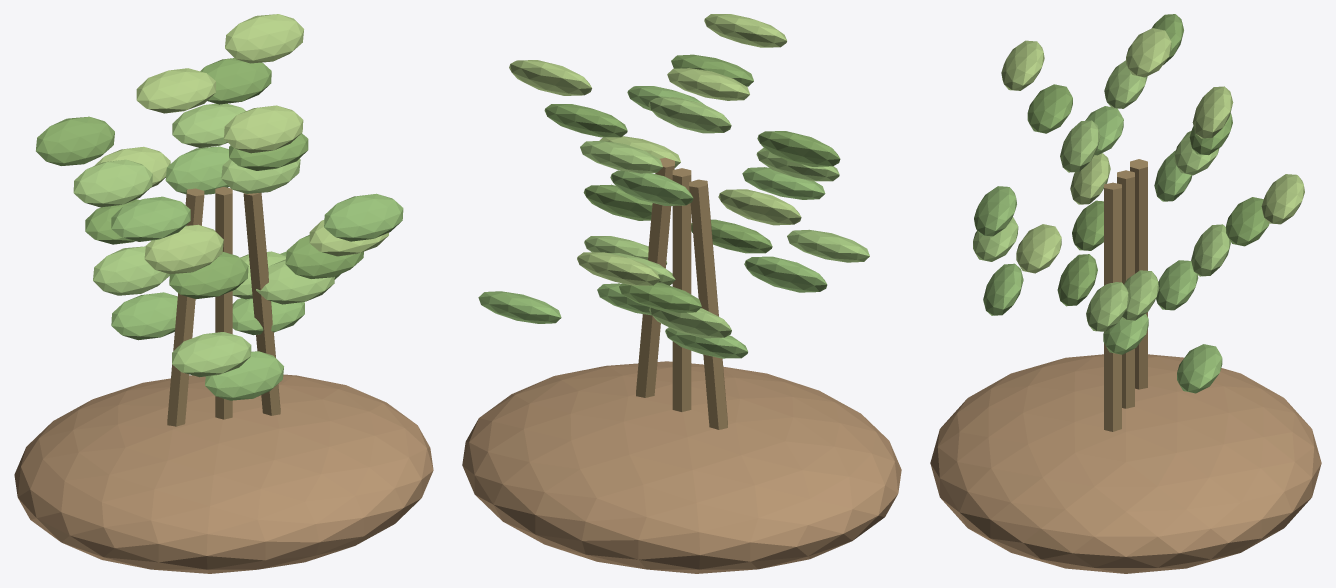
Rendered from yerba_listo.glb.
3 renders of one model, left to right at view 1: azimuth 30°, elevation 25°; view 2: azimuth 150°, elevation 25°; view 3: azimuth 270°, elevation 25°, orthographic. The views are drawn at different scales.
Parts seen in each view (by area): view 1: dirt, stem_2, leaf_14, leaf_23, leaf_4, leaf_13, leaf_7, leaf_11, leaf_15, leaf_12, leaf_9, leaf_16 (+17 smaller); view 2: dirt, stem_0, stem_1, stem_2, leaf_5, leaf_8, leaf_11, leaf_23, leaf_14, leaf_20, leaf_22, leaf_7 (+17 smaller); view 3: dirt, stem_2, stem_1, stem_0, leaf_3, leaf_6, leaf_24, leaf_15, leaf_7, leaf_4, leaf_19, leaf_1 (+18 smaller).
Boxes of the visible parts, x1,y1,x2,y2 form: dirt: (14, 374, 433, 573); stem_2: (243, 192, 280, 415); leaf_14: (36, 116, 114, 165); leaf_23: (225, 14, 303, 63); leaf_4: (324, 193, 403, 241); leaf_13: (73, 159, 152, 207); leaf_7: (224, 105, 303, 153); leaf_11: (144, 224, 223, 274); leaf_15: (136, 68, 215, 113); leaf_12: (111, 196, 190, 241); leaf_9: (172, 332, 251, 377); leaf_16: (111, 292, 177, 340); dirt: (462, 361, 901, 573); stem_0: (689, 179, 727, 429); stem_1: (672, 168, 691, 411); stem_2: (636, 157, 674, 397); leaf_5: (648, 97, 731, 133); leaf_8: (744, 256, 827, 292); leaf_11: (718, 189, 801, 225); leaf_23: (509, 60, 591, 95); leaf_14: (757, 131, 840, 166); leaf_20: (610, 170, 693, 205); leaf_22: (544, 104, 627, 137); leaf_7: (704, 14, 786, 47); dirt: (930, 354, 1321, 573); stem_2: (1104, 182, 1121, 431); stem_1: (1117, 170, 1134, 408); stem_0: (1130, 159, 1147, 389); leaf_3: (1016, 224, 1061, 273); leaf_6: (1027, 84, 1072, 133); leaf_24: (1177, 344, 1222, 393); leaf_15: (1126, 28, 1171, 77); leaf_7: (1001, 40, 1044, 90); leaf_4: (974, 186, 1016, 236); leaf_19: (1261, 174, 1304, 224); leaf_1: (1086, 282, 1129, 331).
Bounding box in the file's own units: 0.34 × 0.3974 × 0.3.
